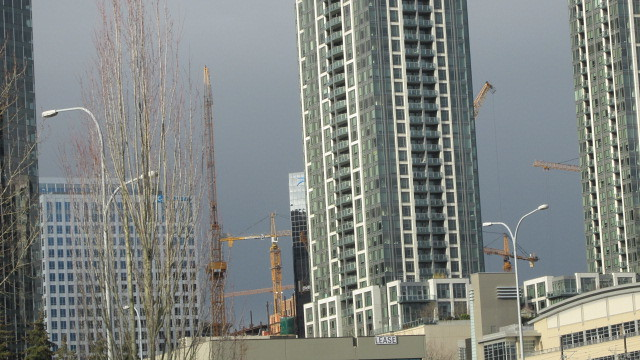low: (290, 3, 490, 347)
